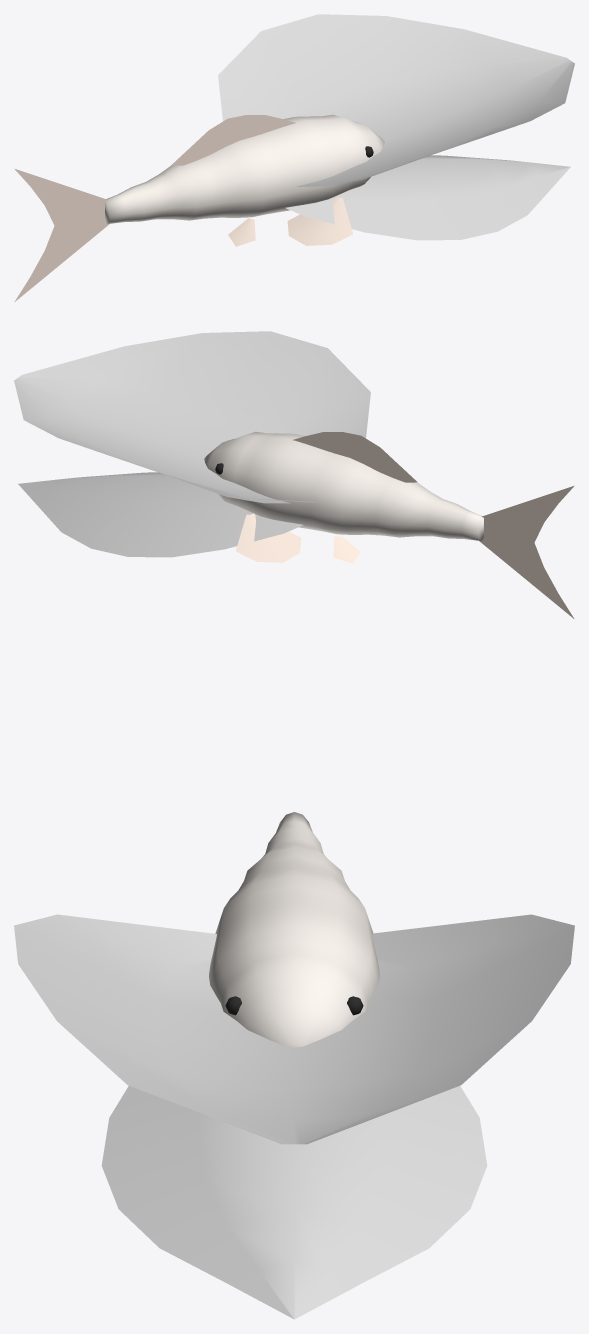
File: assets.glb
3 renders of one model, top to bottom at view 1: azimuth 30°, elevation 25°; view 2: azimuth 150°, elevation 25°; view 3: azimuth 270°, elevation 25°, orthographic. The views are drawn at different scales.
Visible parts, largest first — view 1: Petal, Koi, Leaf; view 2: Petal, Koi, Leaf; view 3: Petal, Leaf, Koi.
Part boxes in pixels (bbox=[...]): Petal: bbox=[218, 14, 574, 186]; Koi: bbox=[14, 114, 384, 301]; Leaf: bbox=[285, 155, 570, 240]; Petal: bbox=[14, 331, 370, 503]; Koi: bbox=[204, 431, 574, 618]; Leaf: bbox=[18, 472, 303, 557]; Petal: bbox=[14, 914, 574, 1144]; Leaf: bbox=[101, 1086, 487, 1319]; Koi: bbox=[209, 812, 379, 1047].
Size of the model in its own units: 1.65 by 0.38 by 0.8706.
